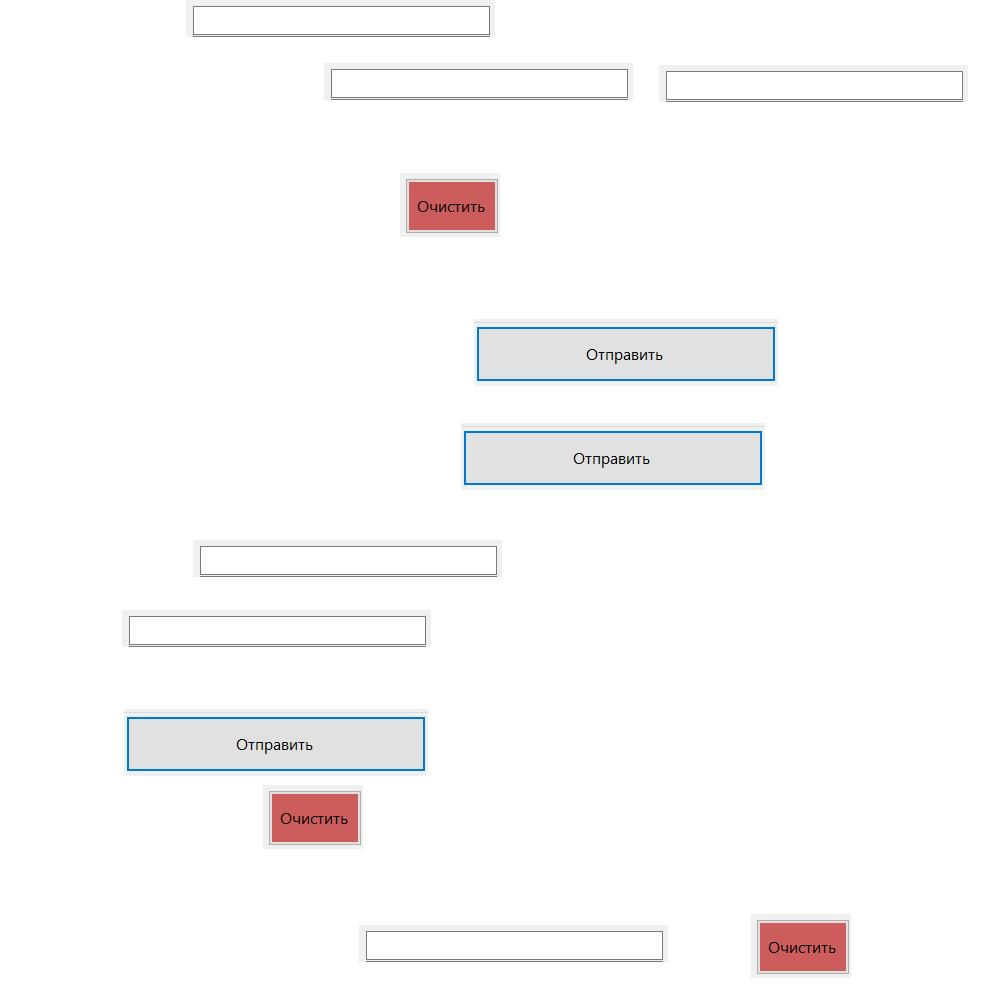Button: (124, 709, 428, 776), (461, 423, 765, 490), (474, 319, 778, 386), (400, 173, 500, 237), (751, 914, 851, 978), (263, 785, 363, 849)
EditText-: (122, 610, 431, 647), (359, 925, 668, 962), (324, 63, 633, 100), (659, 65, 968, 102), (186, 0, 495, 37), (193, 540, 502, 577)
